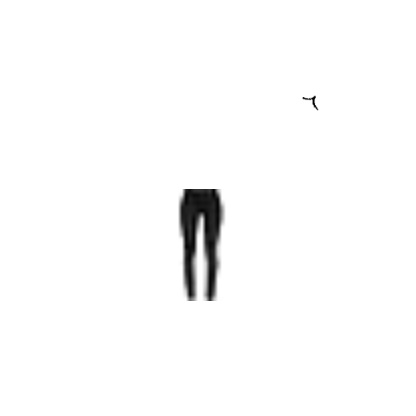1: (304, 251, 388, 335)
2: (347, 188, 389, 230)
3: (300, 94, 314, 108)
7: (174, 208, 286, 320)
8: (117, 177, 173, 233)
Dress: (231, 244, 245, 258)
Pullover: (118, 54, 146, 82)
